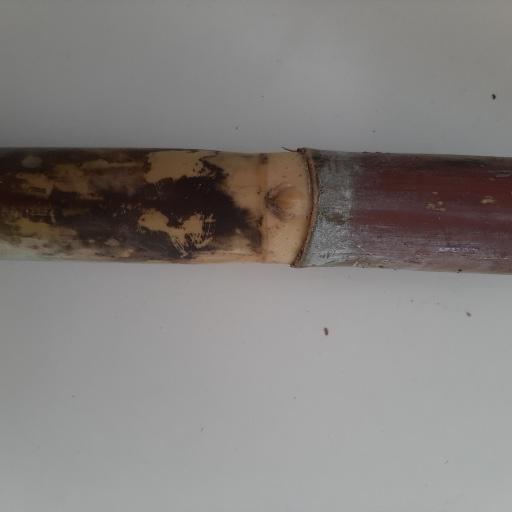Bud: (263, 181, 309, 224)
